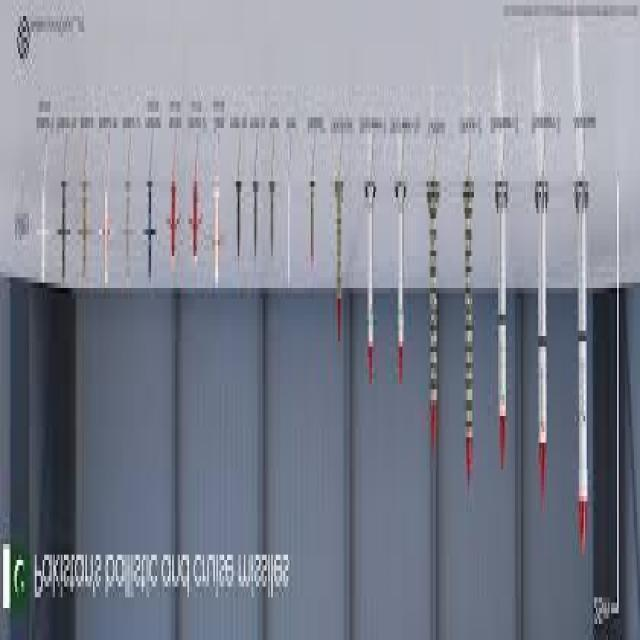Missile: (492, 177, 513, 503), (576, 175, 592, 569), (534, 166, 550, 521), (462, 183, 476, 497)
